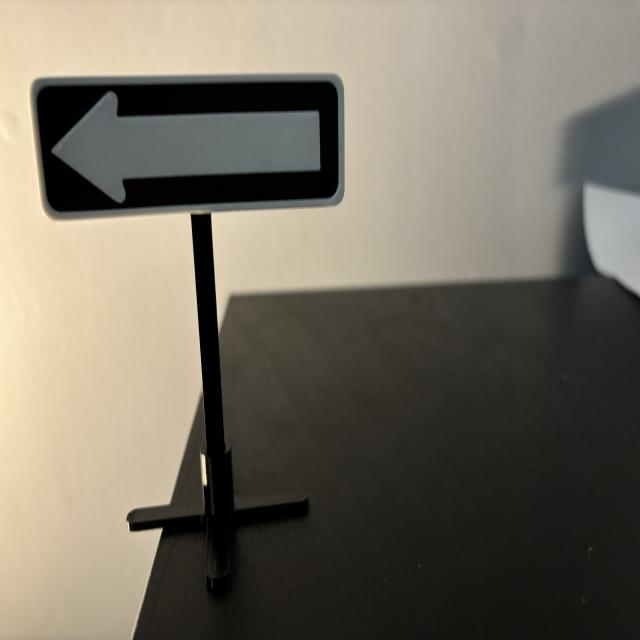sign_oneway_left: (30, 75, 346, 221)
